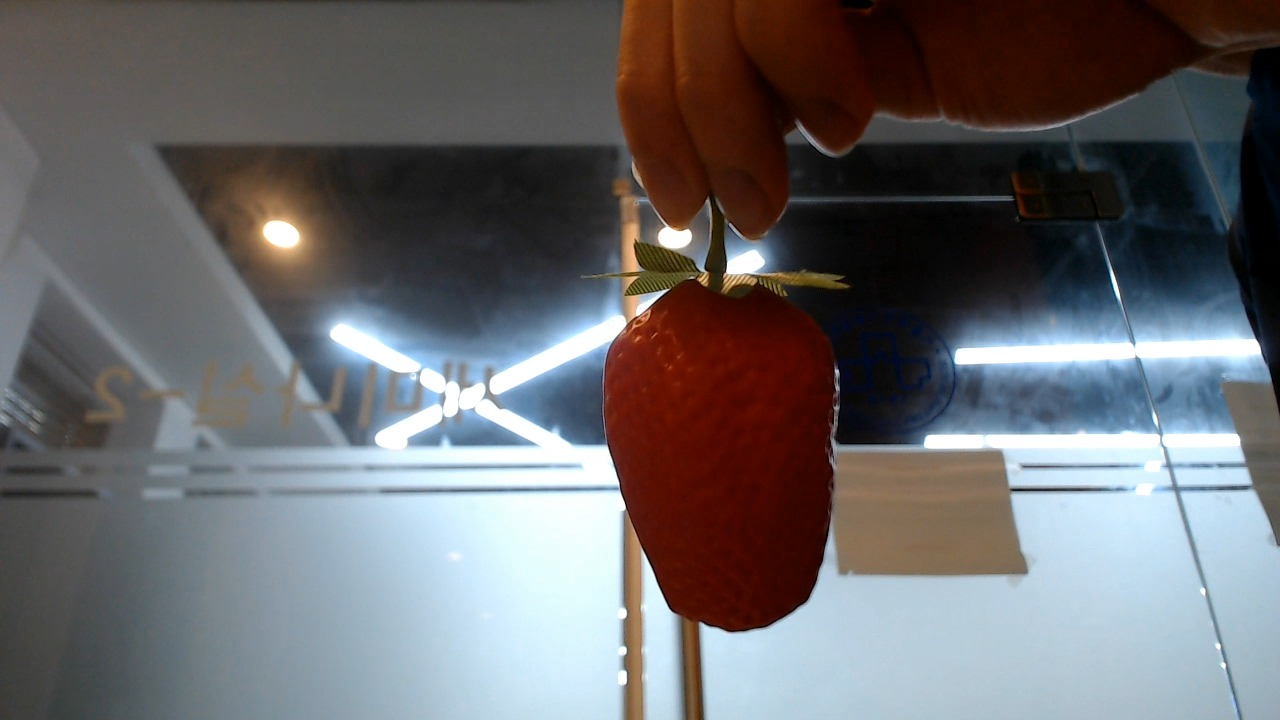strawberry: (581, 243, 859, 636)
